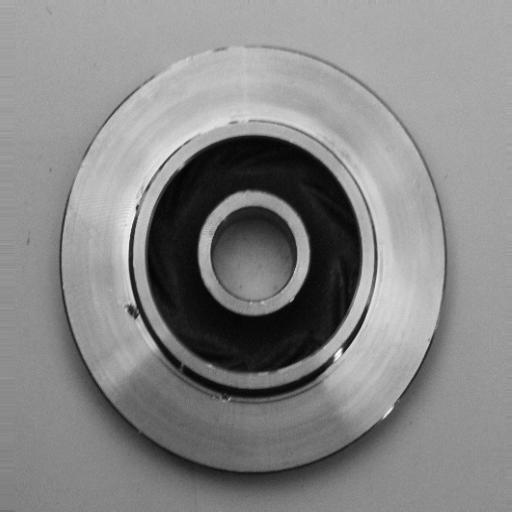crack: (113, 297, 148, 331), (212, 384, 245, 410)
scratch: (182, 110, 259, 146), (328, 336, 359, 377)
unpolished_casting: (57, 40, 451, 481)
